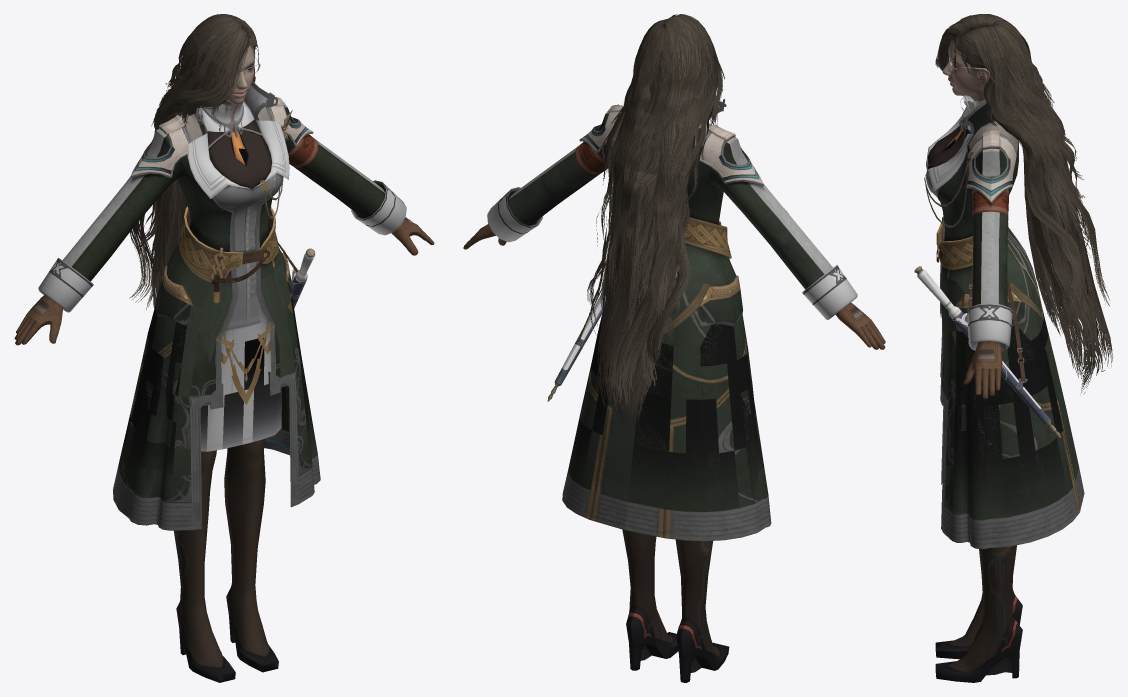
The model's file is JHIL.FBX.
3 views of the same model, side by side, from view 1: azimuth 30°, elevation 25°; view 2: azimuth 150°, elevation 25°; view 3: azimuth 270°, elevation 25° (orthographic).
Parts seen in each view (by area): view 1: JIHL; view 2: JIHL; view 3: JIHL.
Part boxes in pixels (x1=…): JIHL: x1=14, y1=14, x2=434, y2=682; JIHL: x1=463, y1=14, x2=885, y2=682; JIHL: x1=914, y1=14, x2=1112, y2=682.
Bounding box in the file's own units: 1.21 × 0.495 × 1.78.
